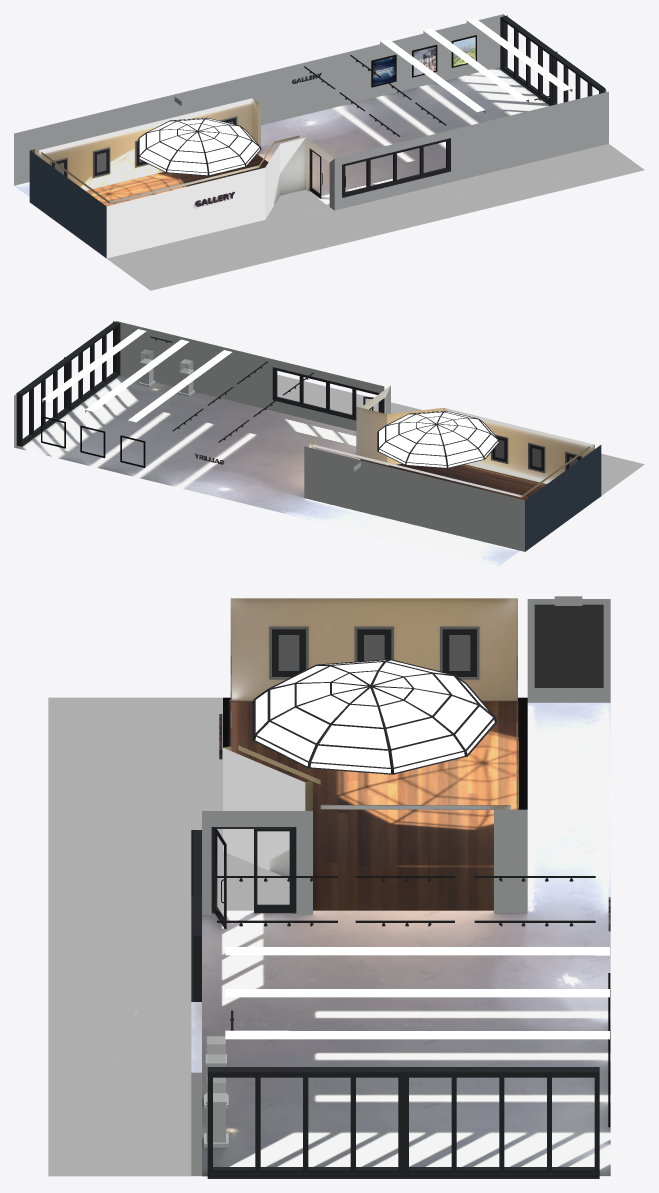
File: art-gallery13.glb
3 renders of one model, top to bottom at view 1: azimuth 30°, elevation 25°; view 2: azimuth 150°, elevation 25°; view 3: azimuth 270°, elevation 25°, orthographic. The views are drawn at different scales.
Parts seen in each view (by area): view 1: ParedesPrincipais, Paredes, Chao_entrada.001, Chao_entrada, Sphere.002, Metais, LuzesEmission, Chao_madeira, Todos os quadros, Plane, Quadros_entrada, Plane.001 (+1 smaller); view 2: Chao_entrada, ParedesPrincipais, Paredes, Sphere.002, Metais, Chao_entrada.001, LuzesEmission, Chao_madeira, Todos os quadros, Quadros_entrada, ParedesPrincipais.001; view 3: Chao_entrada, Chao_entrada.001, Chao_madeira, Paredes, Sphere.002, Metais, ParedesPrincipais, Todos os quadros, LuzesEmission, ParedesPrincipais.001.
Boxes of the visible parts, box(x1,y1,x2,y2) form: ParedesPrincipais: box(14, 14, 608, 210); Paredes: box(29, 98, 334, 258); Chao_entrada.001: box(107, 144, 644, 290); Chao_entrada: box(14, 67, 549, 206); Sphere.002: box(138, 117, 261, 175); Metais: box(304, 15, 605, 198); LuzesEmission: box(380, 18, 571, 111); Chao_madeira: box(86, 154, 268, 206); Todos os quadros: box(50, 116, 237, 177); Plane: box(373, 56, 395, 85); Quadros_entrada: box(371, 35, 476, 87); Plane.001: box(413, 46, 435, 75); Chao_entrada: box(14, 374, 519, 565); ParedesPrincipais: box(14, 321, 524, 551); Paredes: box(309, 385, 601, 551); Sphere.002: box(377, 410, 499, 468); Metais: box(16, 321, 384, 446); Chao_entrada.001: box(277, 374, 644, 495); LuzesEmission: box(42, 329, 232, 422); Chao_madeira: box(360, 459, 546, 499); Todos os quadros: box(491, 434, 582, 472); Quadros_entrada: box(41, 416, 145, 467); ParedesPrincipais.001: box(138, 358, 194, 396); Chao_entrada: box(191, 702, 610, 1176); Chao_entrada.001: box(48, 697, 289, 1176); Chao_madeira: box(223, 697, 527, 910); Paredes: box(223, 598, 517, 878); Sphere.002: box(252, 659, 496, 774); Metais: box(191, 827, 599, 1178); ParedesPrincipais: box(191, 596, 610, 1175); Todos os quadros: box(230, 604, 603, 809); LuzesEmission: box(225, 947, 609, 1039); ParedesPrincipais.001: box(204, 1054, 228, 1147).
Size of what is drawn, in the model's own units: 62.24 by 8.29 by 30.8.
20 materials, 7 textured.
